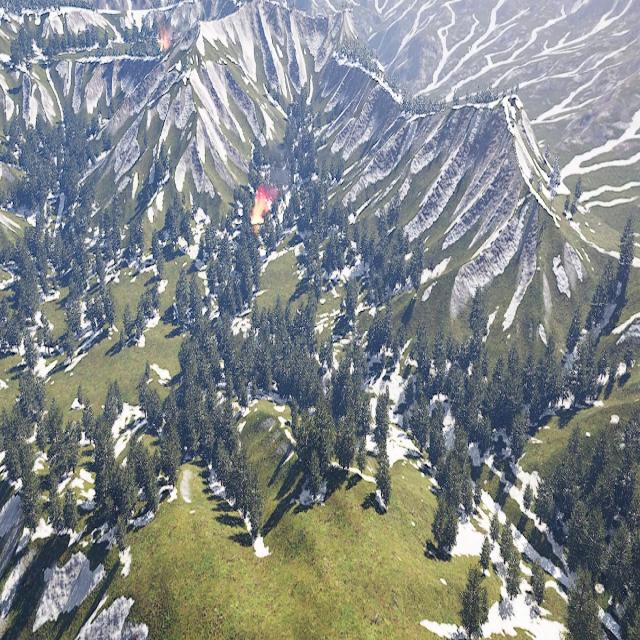fire: (251, 193, 269, 226), (159, 33, 172, 51)
smoke: (258, 165, 290, 202), (167, 5, 196, 41)
